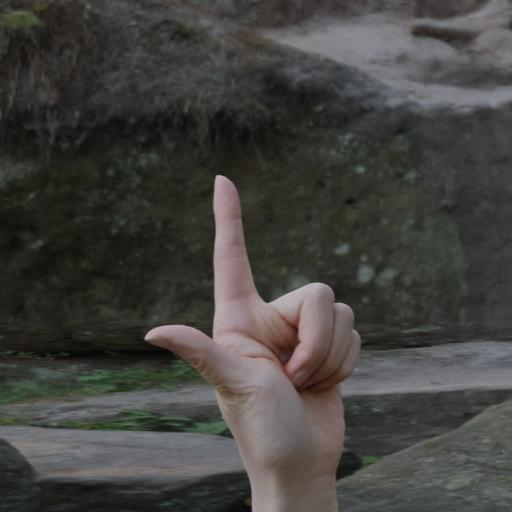L: (130, 164, 374, 489)
